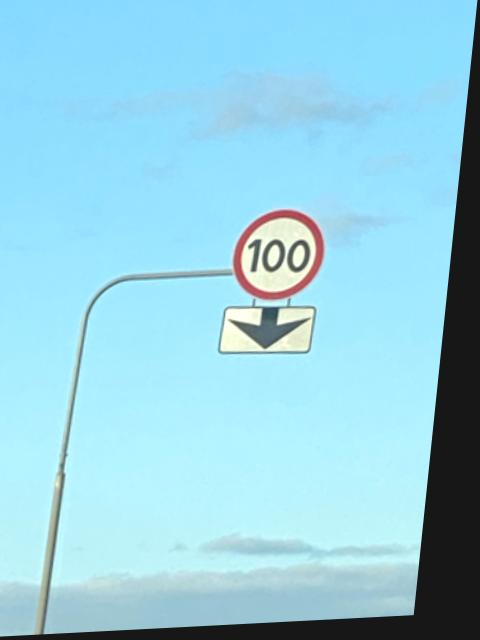limit100: (223, 201, 339, 310)
